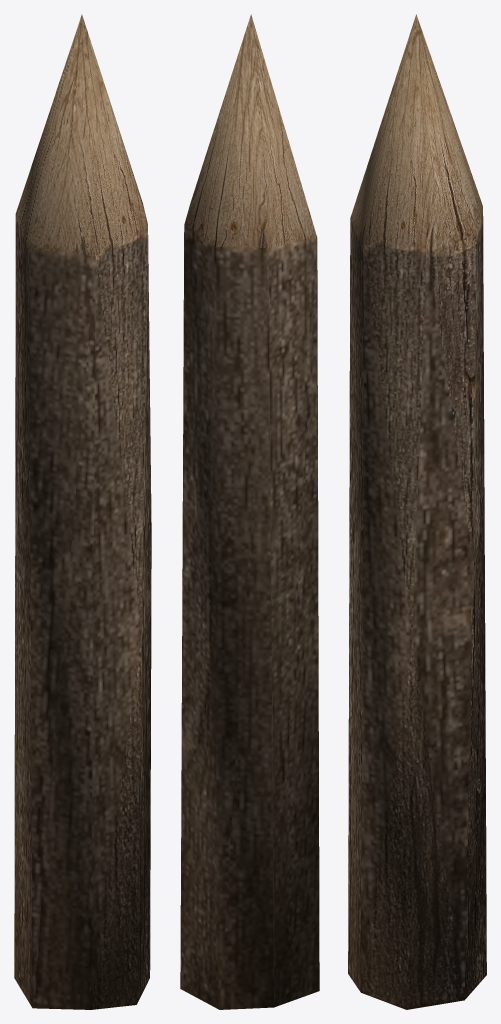
The model's file is stake1.glb.
The picture shows the model from 3 angles, left to right: view 1: azimuth 30°, elevation 25°; view 2: azimuth 150°, elevation 25°; view 3: azimuth 330°, elevation 25°; orthographic projection.
Visible parts, largest first — view 1: tripo_node_72dad8f3; view 2: tripo_node_72dad8f3; view 3: tripo_node_72dad8f3.
Part boxes in pixels (bbox=[...]): tripo_node_72dad8f3: bbox=[14, 14, 151, 1009]; tripo_node_72dad8f3: bbox=[180, 14, 319, 1009]; tripo_node_72dad8f3: bbox=[348, 14, 486, 1009].
Bounding box in the file's own units: 1.59 × 12.01 × 1.52.
Materials: 1 (1 with a texture image).
